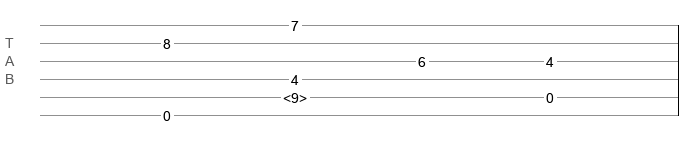0: (163, 108, 171, 118), (546, 90, 554, 100)
4: (291, 72, 299, 82), (546, 54, 554, 64)
6: (418, 54, 426, 64)
7: (291, 18, 299, 28)
8: (163, 36, 171, 46)
harmonic: (283, 90, 307, 100)
